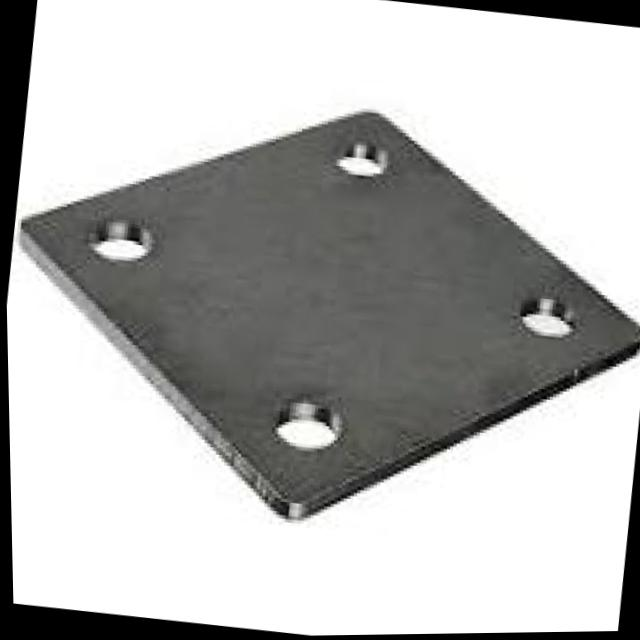holes: (268, 391, 342, 455), (83, 213, 153, 263), (513, 291, 574, 340), (331, 136, 388, 179)
